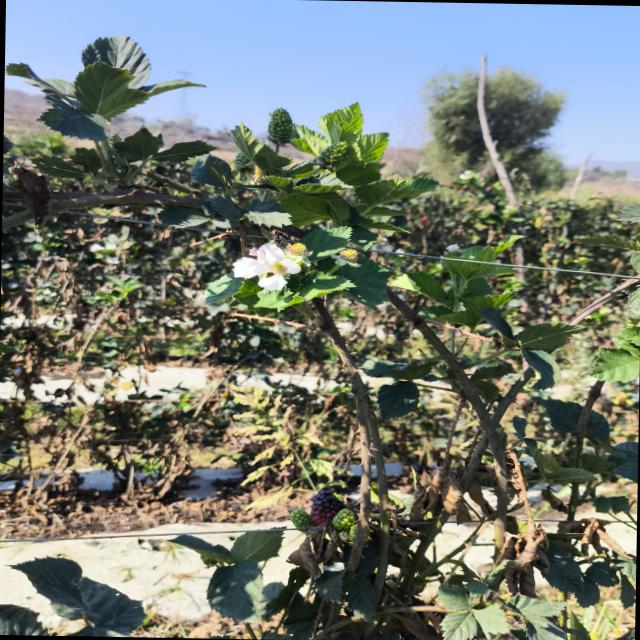flor: (232, 240, 300, 290)
